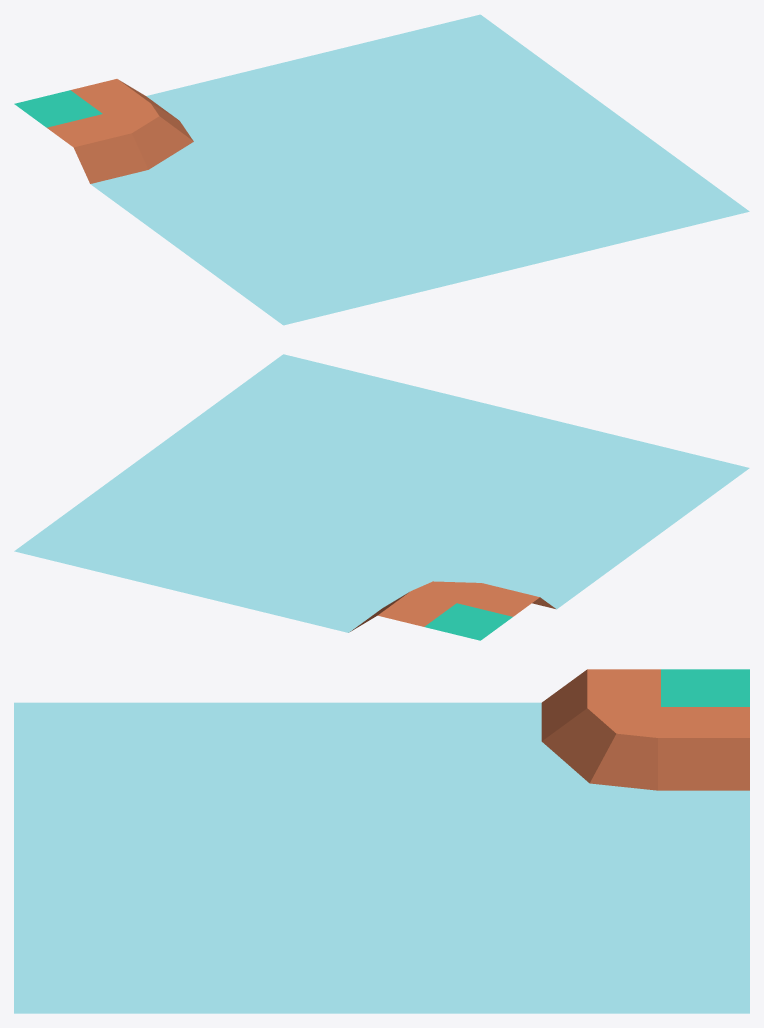
File: ground_riverCornerSmall.dae
3 renders of one model, top to bottom at view 1: azimuth 30°, elevation 25°; view 2: azimuth 150°, elevation 25°; view 3: azimuth 270°, elevation 25°, orthographic. The views are drawn at different scales.
Parts seen in each view (by area): view 1: ground_riverCornerSmall; view 2: ground_riverCornerSmall; view 3: ground_riverCornerSmall.
Part boxes in pixels (bbox=[...]): ground_riverCornerSmall: bbox=[14, 14, 749, 325]; ground_riverCornerSmall: bbox=[14, 354, 749, 640]; ground_riverCornerSmall: bbox=[14, 669, 749, 1013].
Bounding box in the file's own units: 1 × 0.05 × 1.
